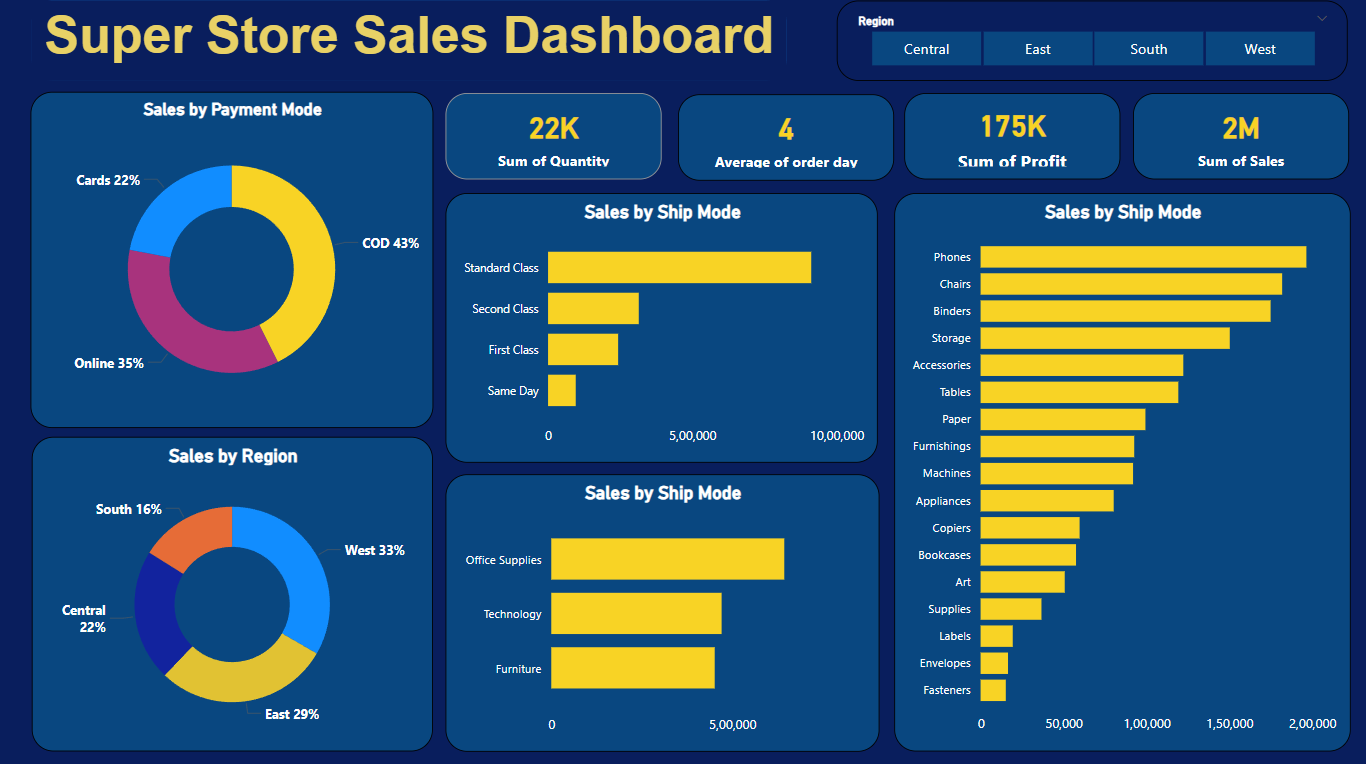

What the dashboard file says about the page in this screenshot:
{"tool":"powerbi","page":{"name":"Page 1","canvas":[1280,720],"ordinal":0},"visuals":[{"type":"donutChart","title":"Sales by Payment Mode","fields":{"Category":["SuperStore_Sales_Dataset.Payment Mode"],"Y":["Sum(SuperStore_Sales_Dataset.Sales)"]},"box":[34.7,91.4,372.5,311.2],"z":0},{"type":"donutChart","title":"Sales by Region","fields":{"Y":["Sum(SuperStore_Sales_Dataset.Sales)"],"Category":["SuperStore_Sales_Dataset.Region"]},"box":[35.9,410.6,371.3,291.5],"z":1000},{"type":"barChart","title":"Sales by Ship Mode","fields":{"Category":["SuperStore_Sales_Dataset.Ship Mode"],"Y":["Sum(SuperStore_Sales_Dataset.Sales)"]},"box":[418.7,185.1,400.2,249.8],"z":2000},{"type":"barChart","title":"Sales by Ship Mode","fields":{"Category":["SuperStore_Sales_Dataset.Category"],"Y":["Sum(SuperStore_Sales_Dataset.Sales)"]},"box":[418.7,445.3,401.4,256.8],"z":3000},{"type":"barChart","title":"Sales by Ship Mode","fields":{"Y":["Sum(SuperStore_Sales_Dataset.Sales)"],"Category":["SuperStore_Sales_Dataset.Sub-Category"]},"box":[834,185.1,422.2,517],"z":4000},{"type":"slicer","fields":{"Values":["SuperStore_Sales_Dataset.Region"]},"box":[780.8,6.9,473.1,74],"z":5000},{"type":"card","fields":{"Values":["Sum(SuperStore_Sales_Dataset.Quantity)"]},"box":[418.7,92.5,200.1,79.8],"z":6000},{"type":"card","fields":{"Values":["Sum(SuperStore_Sales_Dataset.Sales)"]},"box":[1054.9,92.5,200,79.8],"z":7000},{"type":"card","fields":{"Values":["Sum(SuperStore_Sales_Dataset.Profit)"]},"box":[843.2,92.5,200.1,79.8],"z":8000},{"type":"card","fields":{"Values":["Avg(SuperStore_Sales_Dataset.order day)"]},"box":[633.9,93.7,200.1,79.8],"z":9000},{"type":"shape","box":[35.9,6.9,698.6,74],"z":10000},{"type":"textbox","box":[35.9,6.9,698.6,74],"z":11000}]}

Visuals, with their boxes in screenshot pixels (x1, y1, x2, y2), scaled from the page's 1280x720 canvas onto the 1366x764 screenshot:
"Sales by Payment Mode" donutChart: 37 97 435 427
"Sales by Region" donutChart: 38 436 435 745
"Sales by Ship Mode" barChart: 447 196 874 461
"Sales by Ship Mode" barChart: 447 473 875 745
"Sales by Ship Mode" barChart: 890 196 1341 745
slicer - SuperStore_Sales_Dataset.Region: 833 7 1338 86
card - Sum(SuperStore_Sales_Dataset.Quantity): 447 98 660 183
card - Sum(SuperStore_Sales_Dataset.Sales): 1126 98 1339 183
card - Sum(SuperStore_Sales_Dataset.Profit): 900 98 1113 183
card - Avg(SuperStore_Sales_Dataset.order day): 676 99 890 184
shape: 38 7 784 86
textbox: 38 7 784 86
